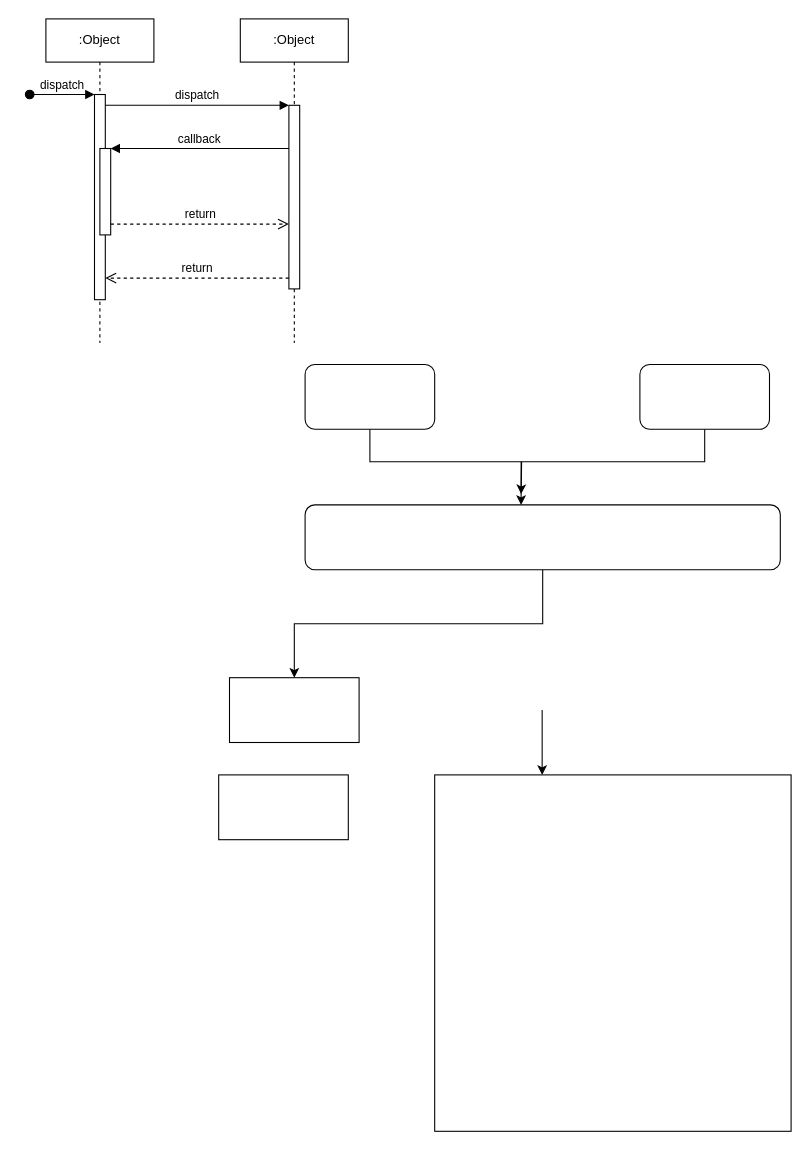
Some shapes in this 810 by 1150 pixel diagram are drawn without their labels. The shapes that lost their labels are listed below. From the top down, each one's centre as x and y in pixels, then its label:
At (x=293, y=709): "text or language change?".
At (x=283, y=807): "Make a network request".
